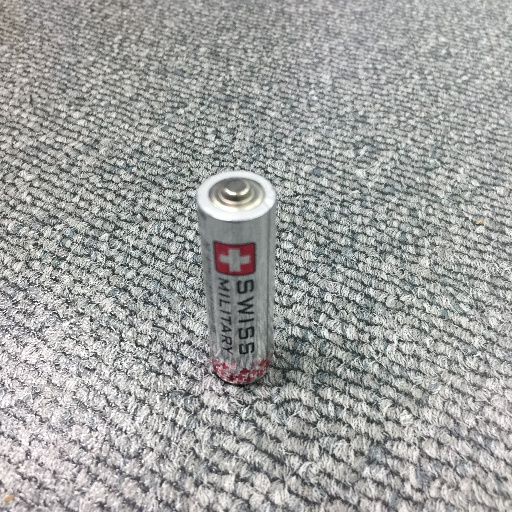Battery_0: (192, 165, 282, 388)
